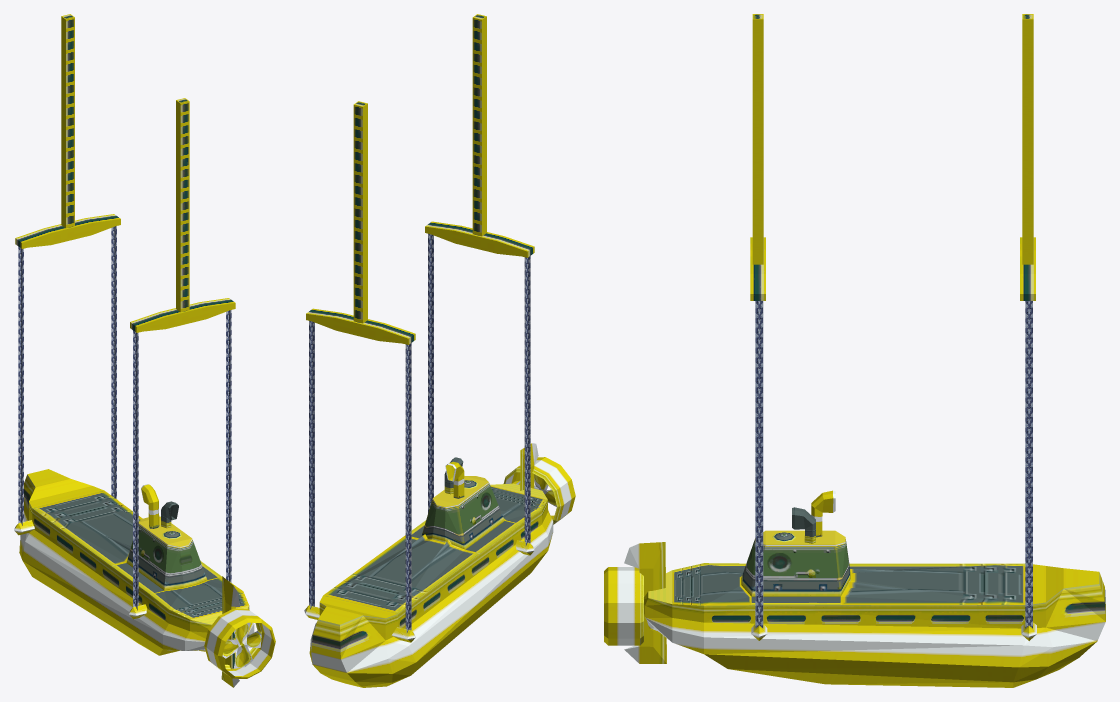
File: submarine_bake.dae
The picture shows the model from 3 angles, left to right: view 1: azimuth 30°, elevation 25°; view 2: azimuth 150°, elevation 25°; view 3: azimuth 270°, elevation 25°; orthographic projection. The views are drawn at different scales.
Visible parts, largest first — view 1: m0, m1, m1_VC; view 2: m0, m1, m1_VC; view 3: m0, m1, m1_VC.
Part boxes in pixels (<box>): m0: <box>14,14,275,687</box>; m1: <box>18,226,231,609</box>; m1_VC: <box>18,226,231,610</box>; m0: <box>304,14,575,687</box>; m1: <box>309,234,530,632</box>; m1_VC: <box>309,234,530,633</box>; m0: <box>604,14,1105,687</box>; m1: <box>755,301,1032,628</box>; m1_VC: <box>755,301,1032,628</box>.
Bounding box in the file's own units: 924 × 4610 × 3175.
3 materials, 3 textured.
